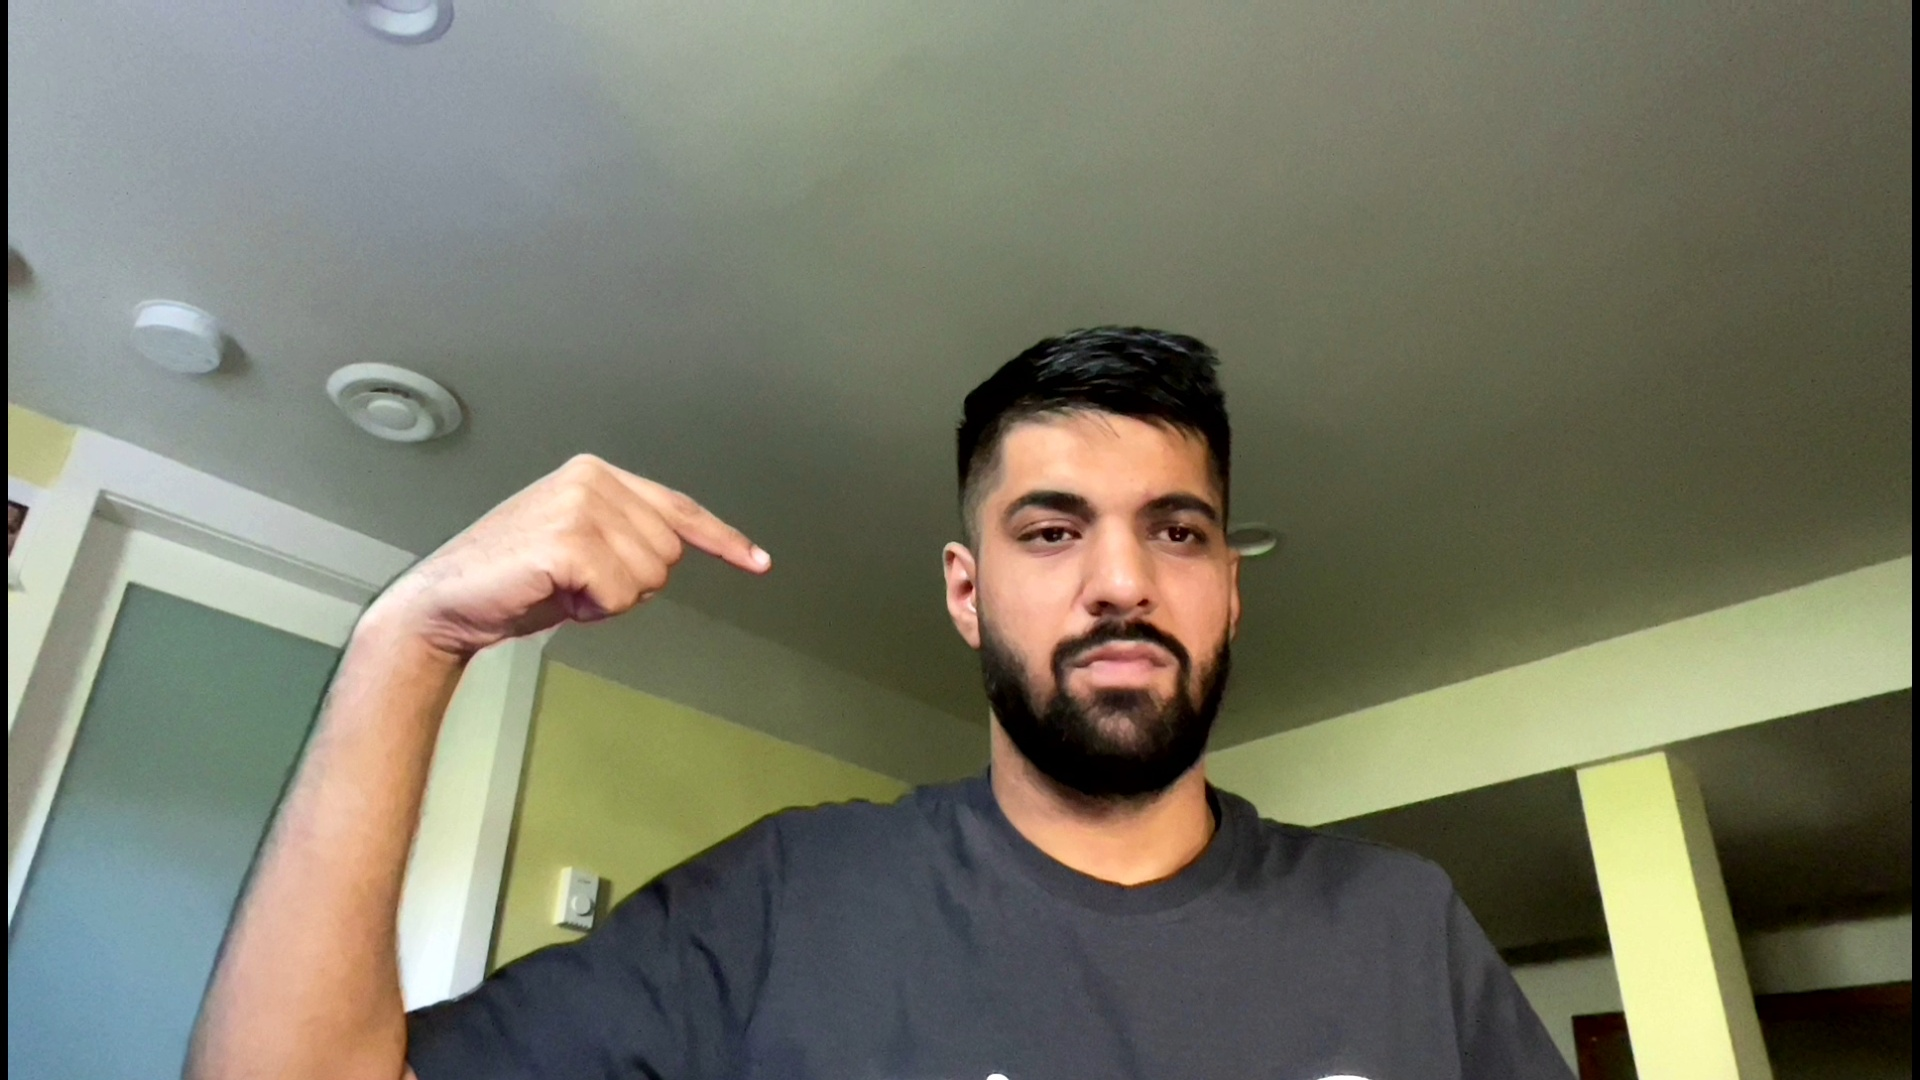Vikrant: (439, 425, 781, 654)
